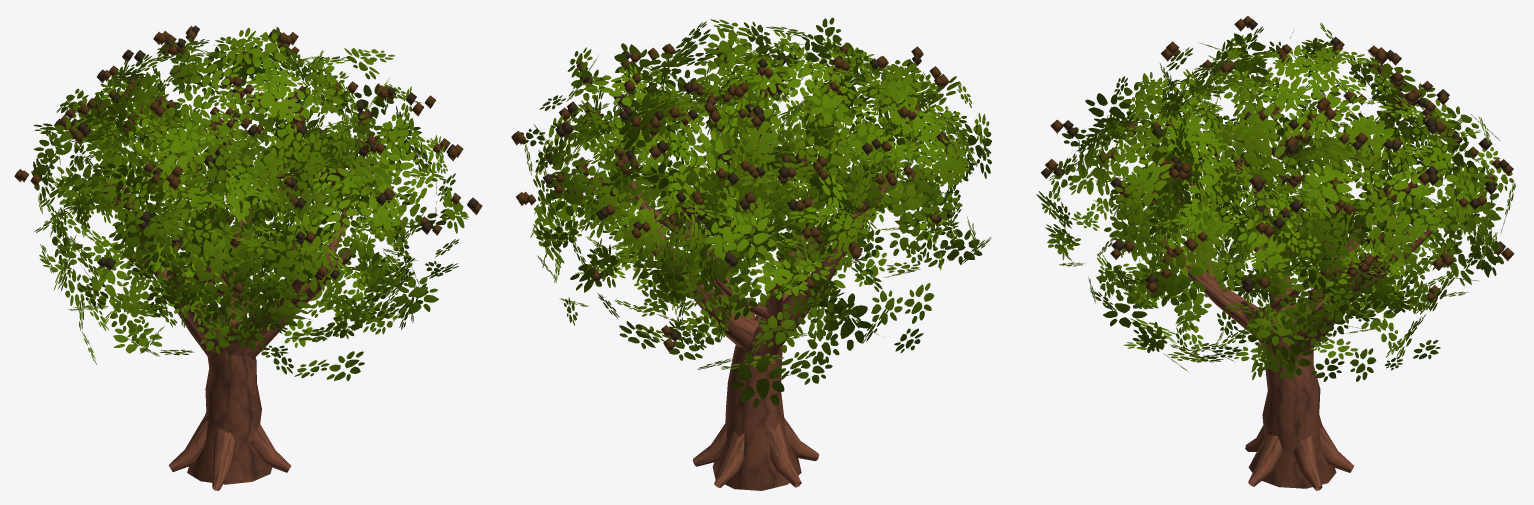
The model's file is oak_acorns.gltf.
3 renders of one model, left to right at view 1: azimuth 30°, elevation 25°; view 2: azimuth 150°, elevation 25°; view 3: azimuth 270°, elevation 25°, orthographic. The views are drawn at different scales.
Visible parts, largest first — view 1: oak_acorns; view 2: oak_acorns; view 3: oak_acorns.
Boxes of the visible parts, bbox=[...] form: oak_acorns: bbox=[14, 25, 482, 490]; oak_acorns: bbox=[511, 17, 991, 490]; oak_acorns: bbox=[1036, 16, 1515, 490].
Bounding box in the file's own units: 8.76 × 9.18 × 9.32.
4 materials, 2 textured.
